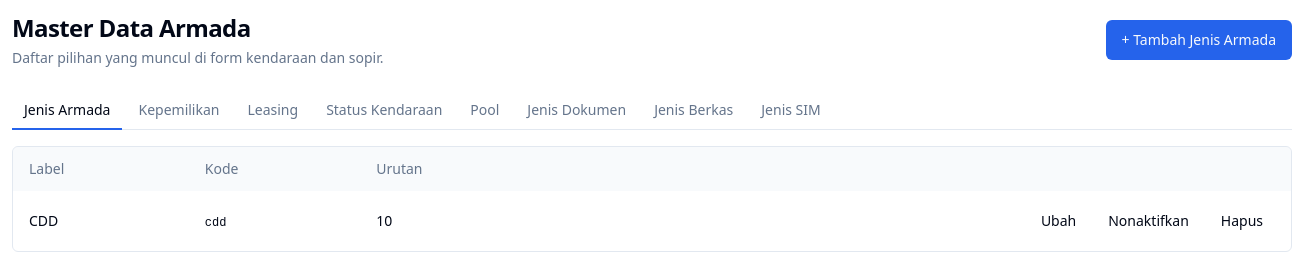
Test: FleetMasterDataPage › shows the required column without the threshold column on Jenis Berkas
Click the tab "Jenis Berkas": (694, 111) 642,92 -> 745,130
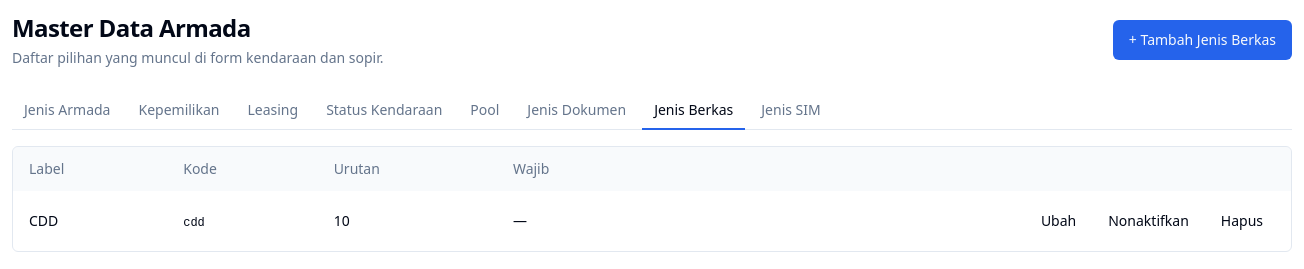
Now the column headings read "Label", "Kode", "Urutan", "Wajib", "", in this order, box 13,147 -> 167,191; 167,147 -> 318,191; 318,147 -> 497,191; 497,147 -> 654,191; 654,147 -> 1291,191
